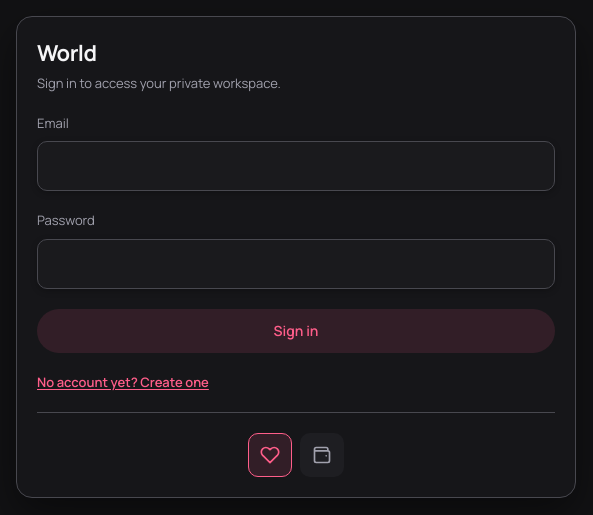
Scenario: <LoginScreen /> create account › switches to the register form and back
The width and height of the screenshot is (593, 515).
Check: the button "Sign in" is shown, box [37,308,555,352]
Click the button "No account yet? Create one". click: {"x": 123, "y": 382}
box: [37,372,209,392]
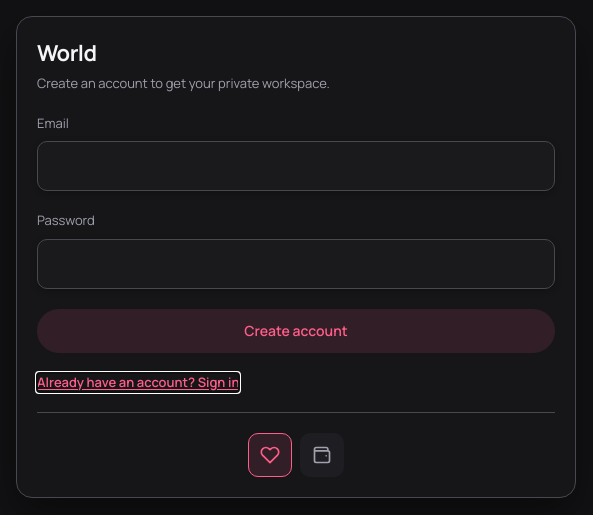
Check: the button "Create account" is shown, box [37,308,555,352]
Click the button "Already have an account? Sign in". click: {"x": 138, "y": 382}
box: [37,372,239,392]
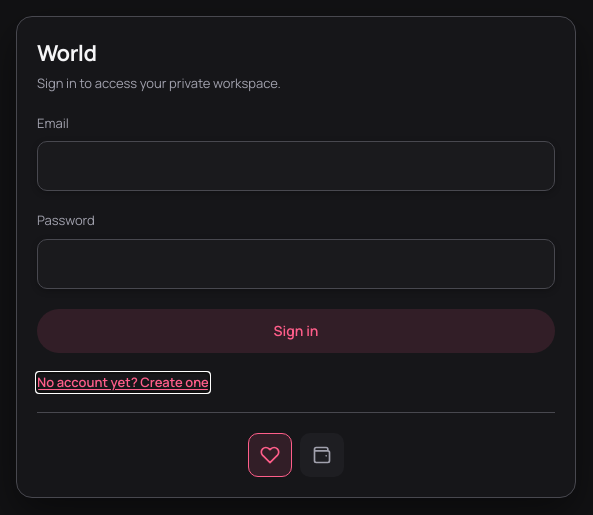
Check: the button "Sign in" is shown, box [37,308,555,352]
